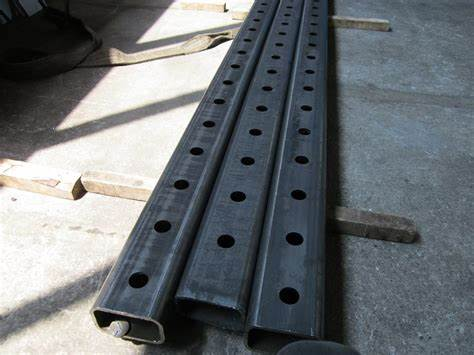hole: (278, 286, 301, 306), (128, 272, 150, 290), (215, 234, 236, 251), (285, 230, 305, 246), (153, 219, 173, 235), (229, 189, 248, 205), (290, 188, 309, 202), (173, 179, 192, 192), (239, 155, 256, 169), (248, 127, 265, 140), (293, 155, 311, 167), (189, 146, 206, 157), (202, 119, 218, 129), (255, 104, 269, 115), (296, 128, 311, 138), (299, 104, 314, 114), (212, 98, 227, 107), (302, 85, 315, 93), (222, 79, 235, 87), (262, 85, 273, 94), (304, 68, 316, 76), (267, 69, 279, 77), (274, 42, 285, 49), (237, 50, 248, 57), (230, 64, 241, 71), (305, 56, 317, 62), (272, 55, 282, 62), (308, 32, 318, 38), (307, 43, 317, 49), (278, 32, 288, 38), (243, 38, 253, 44), (310, 14, 321, 19), (309, 23, 320, 28), (248, 27, 257, 33), (280, 23, 290, 28), (311, 6, 320, 11), (283, 13, 292, 18), (256, 10, 265, 15), (252, 19, 261, 24), (260, 3, 269, 7), (286, 6, 294, 10)
rivet: (110, 316, 132, 340)
